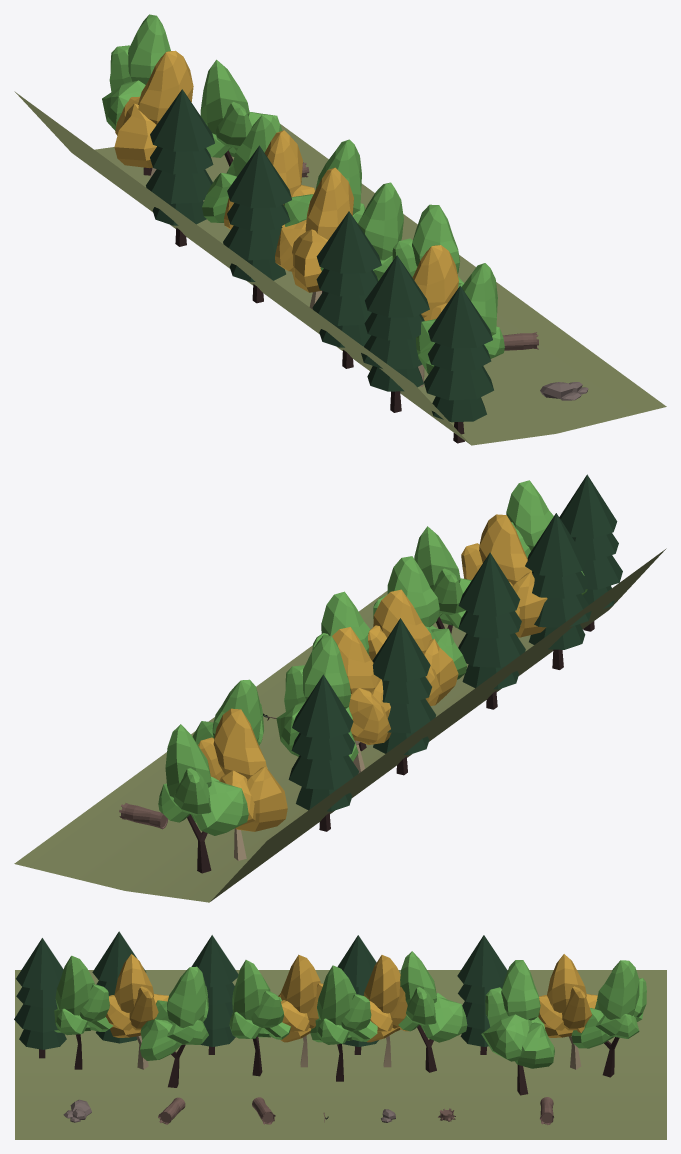
The model's file is leapscene.fbx.
The picture shows the model from 3 angles, top to bottom: view 1: azimuth 30°, elevation 25°; view 2: azimuth 150°, elevation 25°; view 3: azimuth 270°, elevation 25°; orthographic projection. The views are drawn at different scales.
Parts seen in each view (by area): view 1: pPlane1, pCone5, pCone3, pCone6, tree1:pCone3, pCone4, tree3:pSphere7, pSphere12, pSphere7, pSphere6, pSphere8, pSphere10 (+5 smaller); view 2: pPlane1, pCone3, pCone4, pSphere7, pSphere12, pCone6, tree1:pCone3, pCone5, pSphere13, pSphere11, pSphere5, tree3:pSphere7 (+6 smaller); view 3: pPlane1, pSphere6, pSphere9, pSphere7, pCone5, pSphere5, tree2:pSphere5, pSphere8, pSphere10, pSphere12, pSphere13, pCone3 (+8 smaller).
Boxes of the visible parts, x1,y1,x2,y2 form: pPlane1: (14,91,666,445); pCone5: (424,286,493,443); pCone3: (146,89,214,246); pCone6: (361,255,429,412); tree1:pCone3: (223,145,291,303); pCone4: (312,211,381,368); tree3:pSphere7: (275,167,353,309); pSphere12: (114,50,193,178); pSphere7: (102,14,170,175); pSphere6: (200,59,279,166); pSphere8: (320,182,403,280); pSphere10: (416,263,504,374); pPlane1: (14,548,666,902); pCone3: (288,674,358,831); pCone4: (458,552,525,709); pSphere7: (158,724,248,873); pSphere12: (198,708,287,860); pCone6: (525,513,591,669); tree1:pCone3: (372,618,435,775); pCone5: (559,474,622,631); pSphere13: (461,514,547,637); pSphere11: (332,627,391,773); pSphere5: (276,634,358,761); tree3:pSphere7: (368,589,458,705); pPlane1: (15,970,666,1139); pSphere6: (481,960,554,1095); pSphere9: (140,966,208,1087); pSphere7: (571,960,646,1077); pCone5: (14,938,66,1058); pSphere5: (398,951,467,1072); tree2:pSphere5: (310,965,377,1081); pSphere8: (229,960,290,1076); pSphere10: (54,955,113,1069); pSphere12: (538,954,597,1069); pSphere13: (106,954,168,1069); pCone3: (457,935,507,1054).
Size of the model in its own units: 36.53 by 22.32 by 100.
